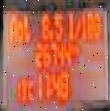-: (48, 27, 52, 38)
0: (91, 11, 99, 36), (85, 11, 92, 36)
1: (80, 11, 85, 36), (36, 72, 41, 97), (44, 69, 48, 97), (15, 78, 20, 100)
2: (35, 41, 41, 63)
3: (20, 78, 24, 100)
4: (50, 69, 59, 97), (57, 41, 63, 61), (63, 41, 69, 61)
5: (53, 11, 62, 39)
6: (41, 41, 49, 63)
7: (49, 41, 55, 63)
8: (40, 11, 47, 39), (59, 69, 66, 97)
X: (8, 13, 15, 41), (23, 13, 29, 41), (67, 8, 73, 36), (73, 14, 80, 36), (15, 19, 22, 38), (26, 78, 31, 100), (49, 72, 50, 94)
